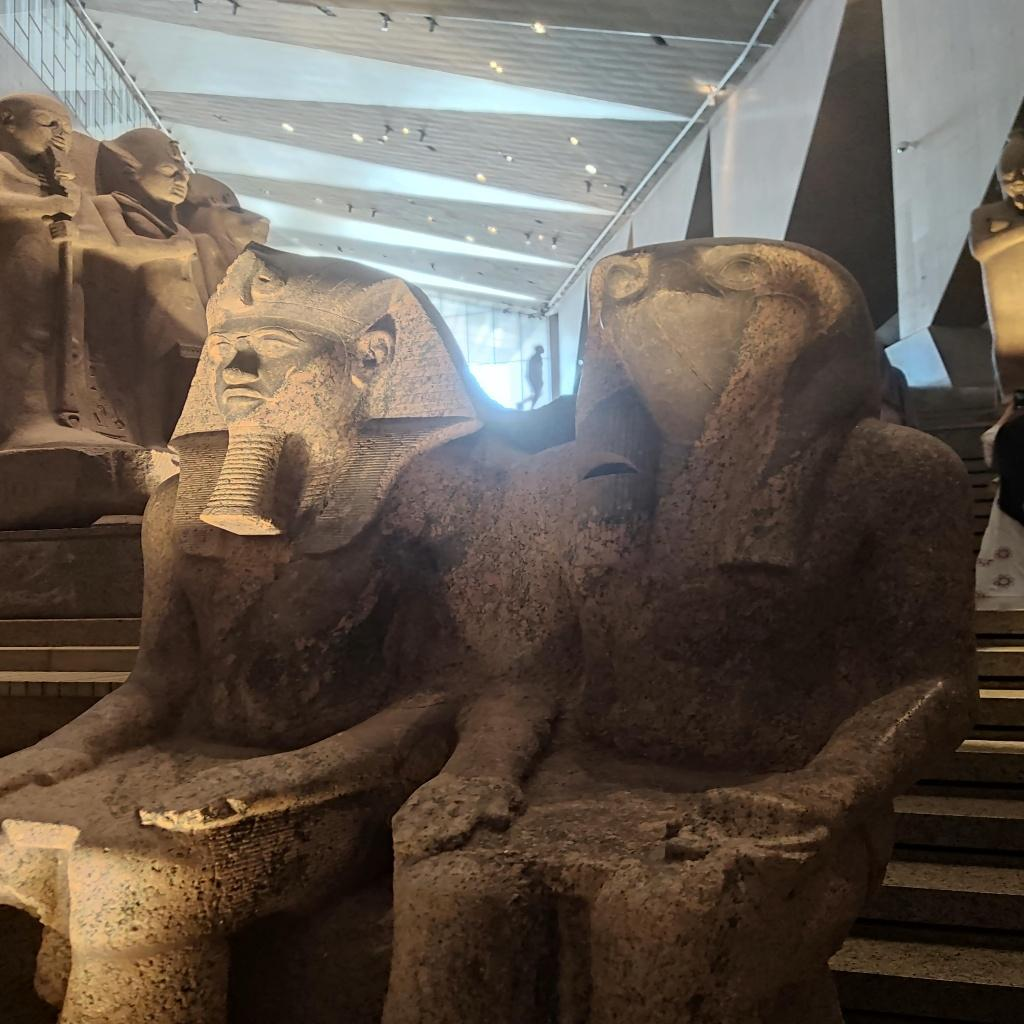Statue of Amenhotep III and God Re-Horakhty: (121, 244, 966, 826)
